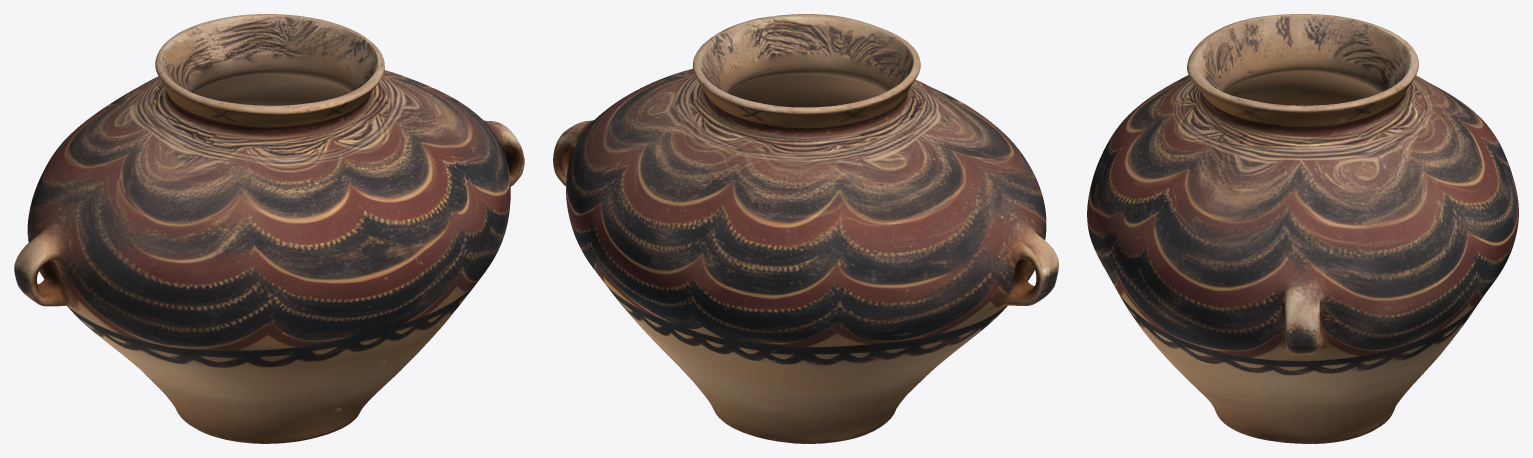
Rendered from jihewencaitaoguanB.glb.
3 views of the same model, side by side, from view 1: azimuth 30°, elevation 25°; view 2: azimuth 150°, elevation 25°; view 3: azimuth 270°, elevation 25° (orthographic).
Parts seen in each view (by area): view 1: node_0; view 2: node_0; view 3: node_0.
Boxes of the visible parts, x1=… form: node_0: x1=14, y1=14, x2=524, y2=443; node_0: x1=553, y1=14, x2=1058, y2=443; node_0: x1=1087, y1=14, x2=1518, y2=443.
Size of the model in its own units: 1.2 by 0.7976 by 0.901.
Materials: 1 (1 with a texture image).
